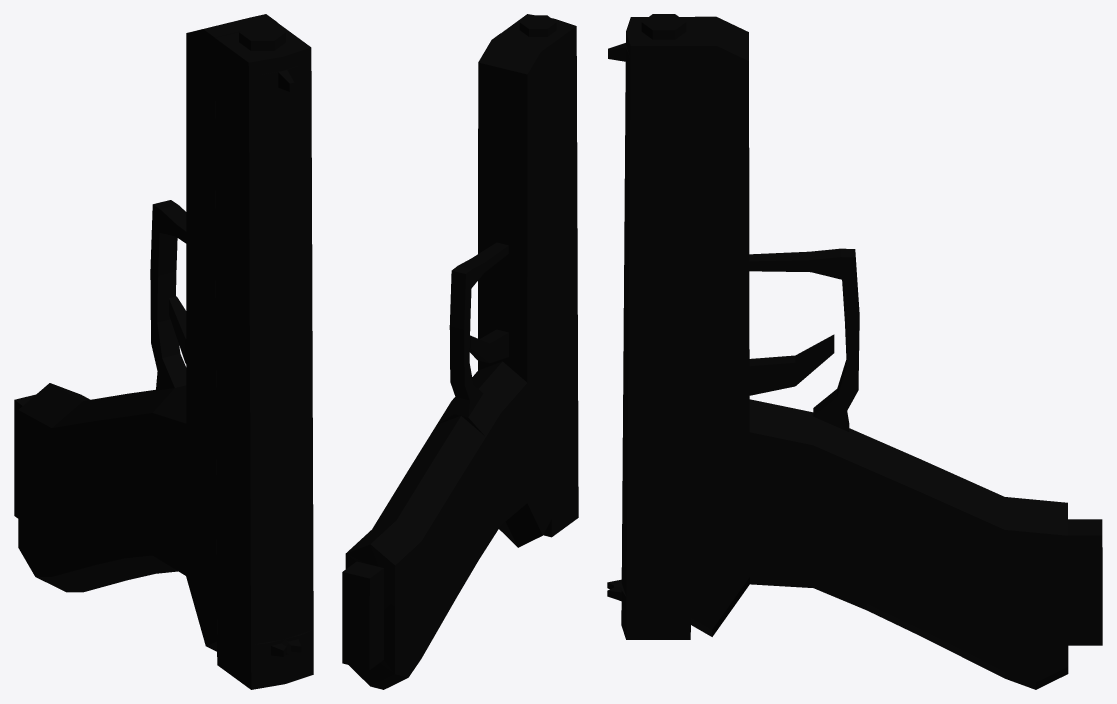
The model's file is Glock19.fbx.
The picture shows the model from 3 angles, left to right: view 1: azimuth 30°, elevation 25°; view 2: azimuth 150°, elevation 25°; view 3: azimuth 270°, elevation 25°; orthographic projection. The views are drawn at different scales.
Parts seen in each view (by area): view 1: asset_Glock19.001; view 2: asset_Glock19.001; view 3: asset_Glock19.001.
Part boxes in pixels (<box>): asset_Glock19.001: <box>14,14,313,689</box>; asset_Glock19.001: <box>342,14,578,689</box>; asset_Glock19.001: <box>607,14,1102,689</box>.
Size of the model in its own units: 0.0101 by 0.108 by 0.0726.
